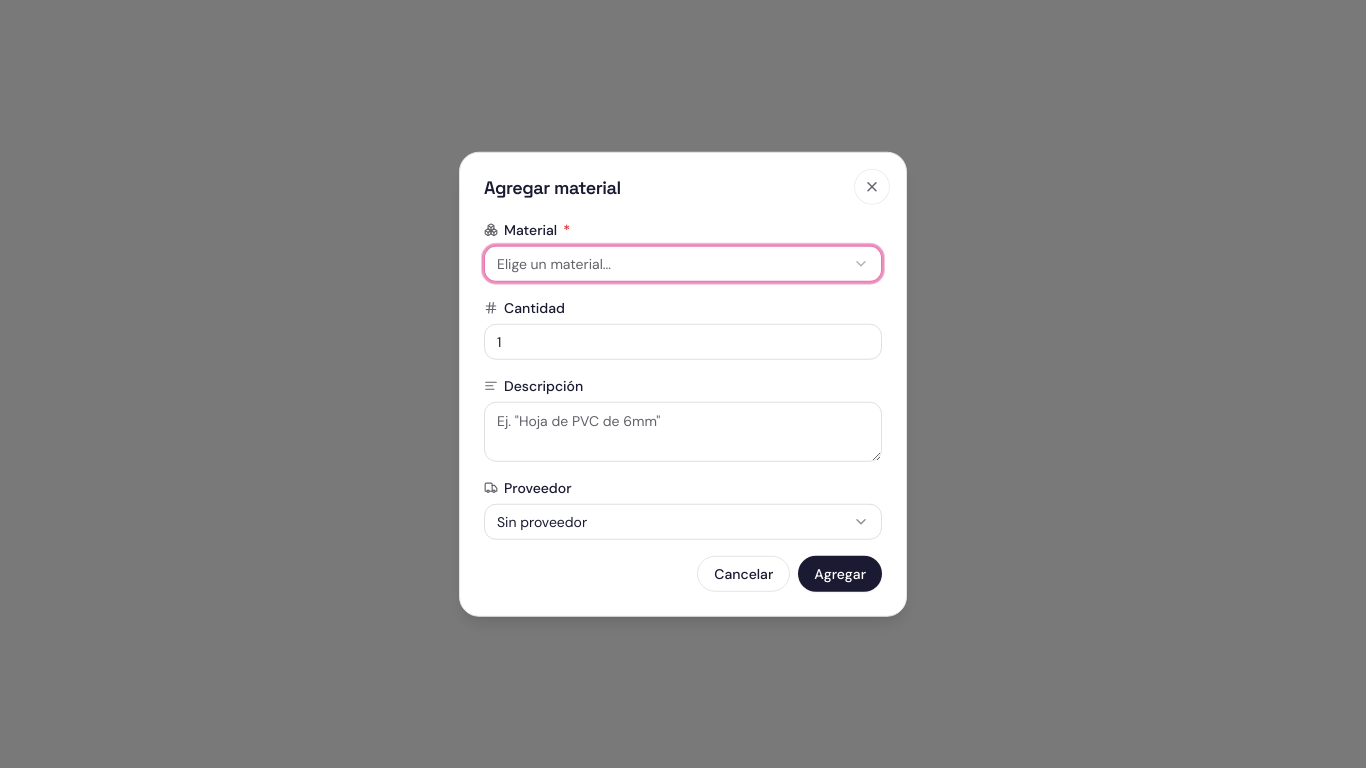
Test: OrderMaterialDialog › no deja agregar sin elegir un material
The width and height of the screenshot is (1366, 768).
What coordinates should you click on to do the following:
click the button "Agregar"
I would click on:
 (840, 573)
Its box is x1=798 y1=555 x2=882 y2=591.
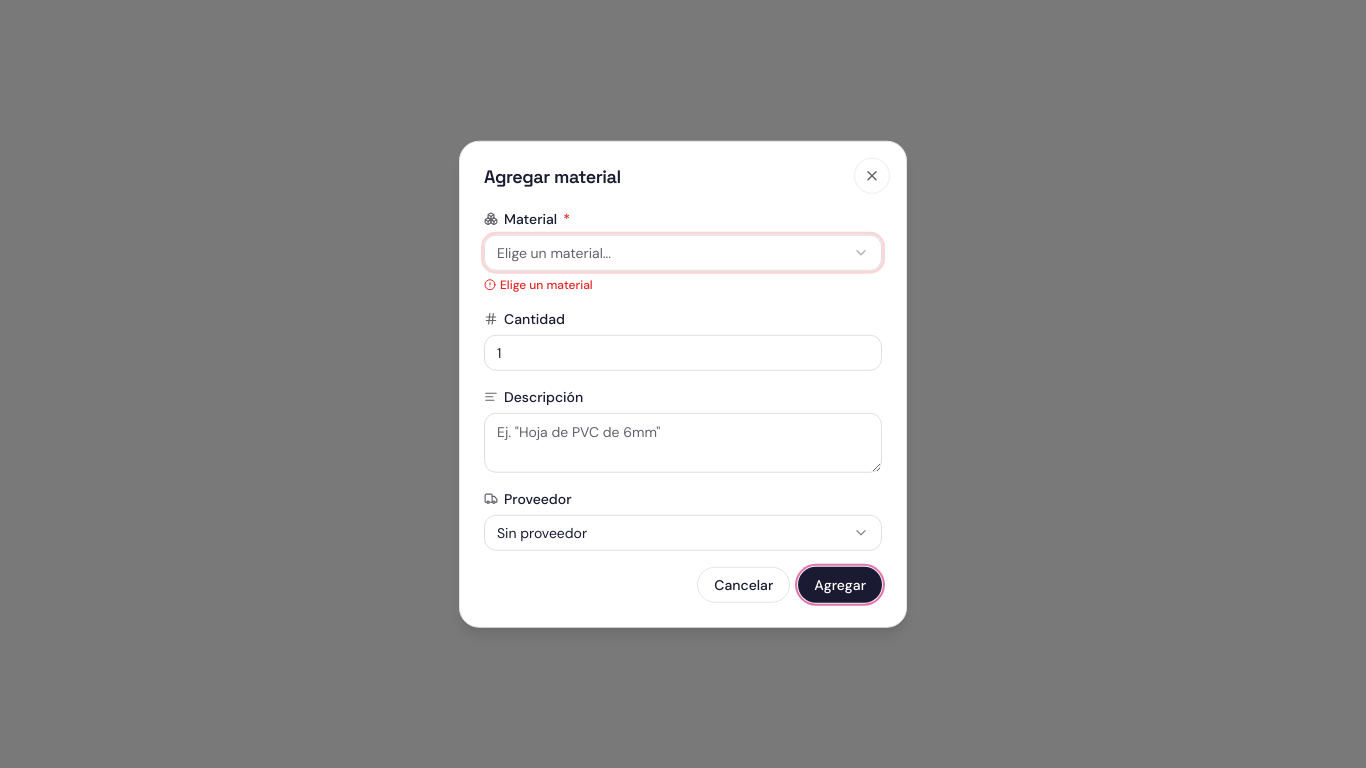
Expected: the text "Elige un material" is shown, x1=484 y1=276 x2=593 y2=292
